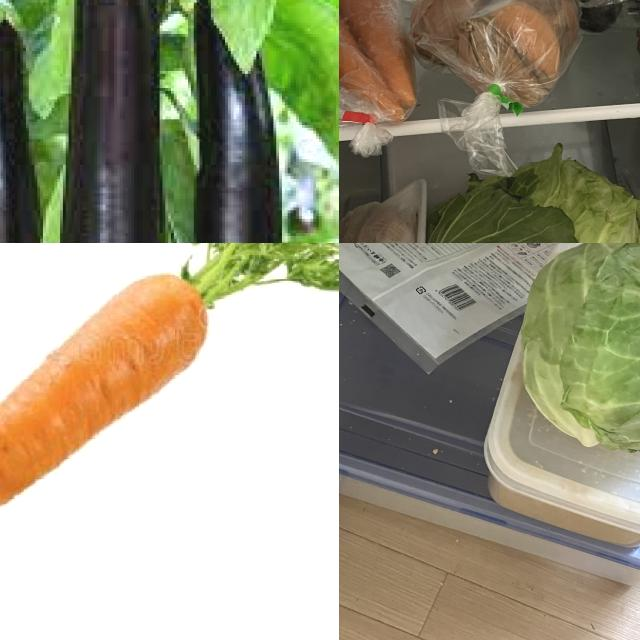cabbage: (517, 244, 640, 459), (420, 146, 640, 244)
carrot: (1, 244, 247, 640), (340, 1, 422, 112), (340, 1, 409, 123)
eggplant: (61, 1, 169, 244), (186, 1, 280, 244), (552, 1, 626, 36)
onion: (464, 1, 562, 108), (408, 1, 498, 72), (493, 1, 582, 60)
